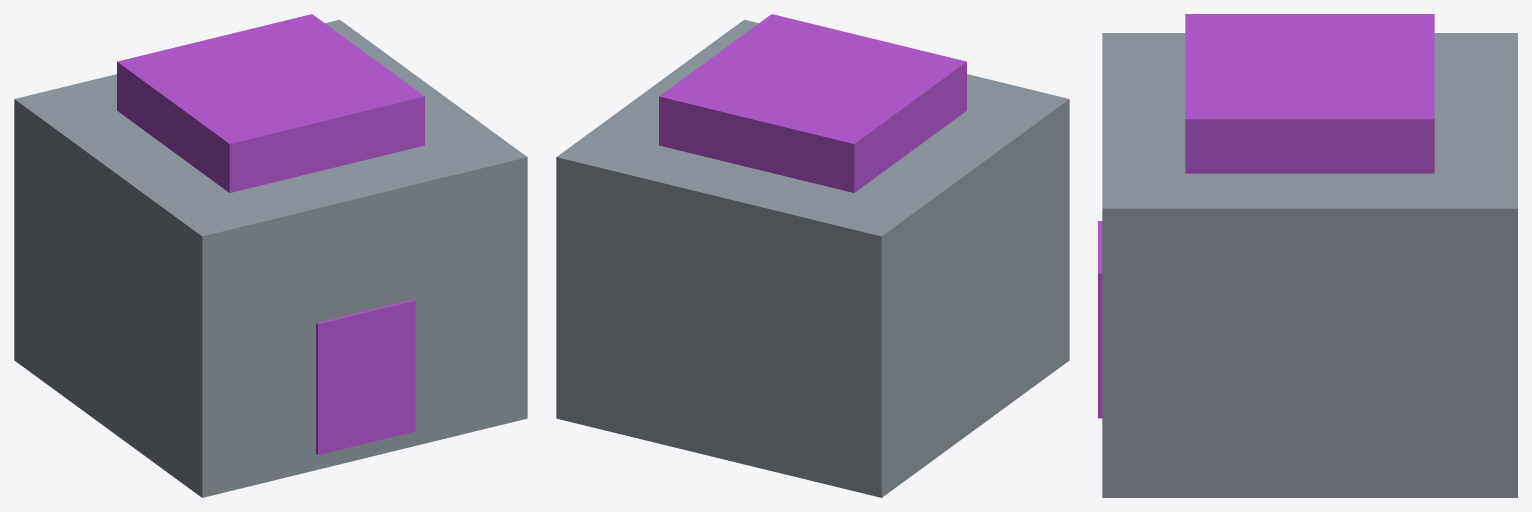
File: CH_SuperweaponSingularity_LOD0.glb
The picture shows the model from 3 angles, left to right: view 1: azimuth 30°, elevation 25°; view 2: azimuth 150°, elevation 25°; view 3: azimuth 270°, elevation 25°; orthographic projection. The views are drawn at different scales.
Parts seen in each view (by area): view 1: EntranceGate; view 2: EntranceGate; view 3: EntranceGate.
Part boxes in pixels (x1,y1,x2,y2): EntranceGate: (14,14,527,497); EntranceGate: (556,14,1069,497); EntranceGate: (1098,14,1517,497).
Size of the model in its own units: 1000 by 912 by 1010.
